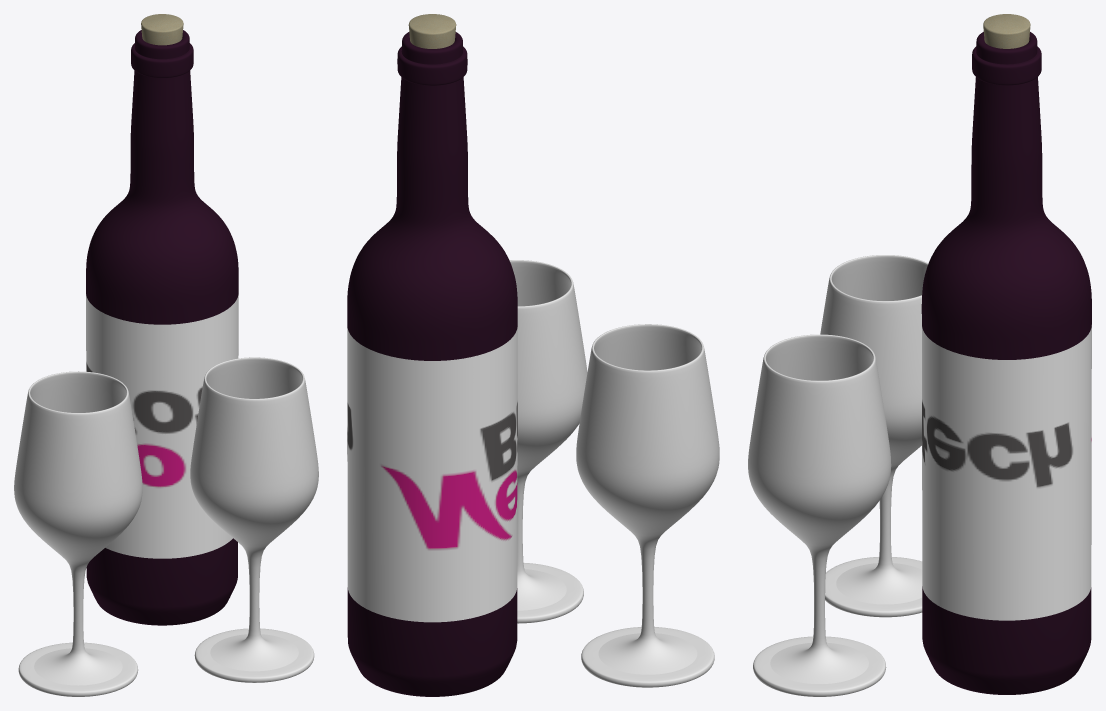
The model's file is Wine.fbx.
3 views of the same model, side by side, from view 1: azimuth 30°, elevation 25°; view 2: azimuth 150°, elevation 25°; view 3: azimuth 270°, elevation 25° (orthographic). The views are drawn at different scales.
Visible parts, largest first — view 1: Wine, Wineglass2, Wineglass1; view 2: Wine, Wineglass1, Wineglass2; view 3: Wine, Wineglass2, Wineglass1.
Part boxes in pixels (bbox=[...]): Wine: bbox=[86, 14, 238, 625]; Wineglass2: bbox=[190, 357, 318, 682]; Wineglass1: bbox=[14, 371, 142, 696]; Wine: bbox=[347, 14, 517, 696]; Wineglass1: bbox=[576, 324, 719, 687]; Wineglass2: bbox=[509, 260, 587, 623]; Wine: bbox=[921, 14, 1091, 694]; Wineglass2: bbox=[748, 334, 891, 696]; Wineglass1: bbox=[820, 255, 928, 617].
Size of the model in its own units: 28.41 by 60.17 by 29.2.
